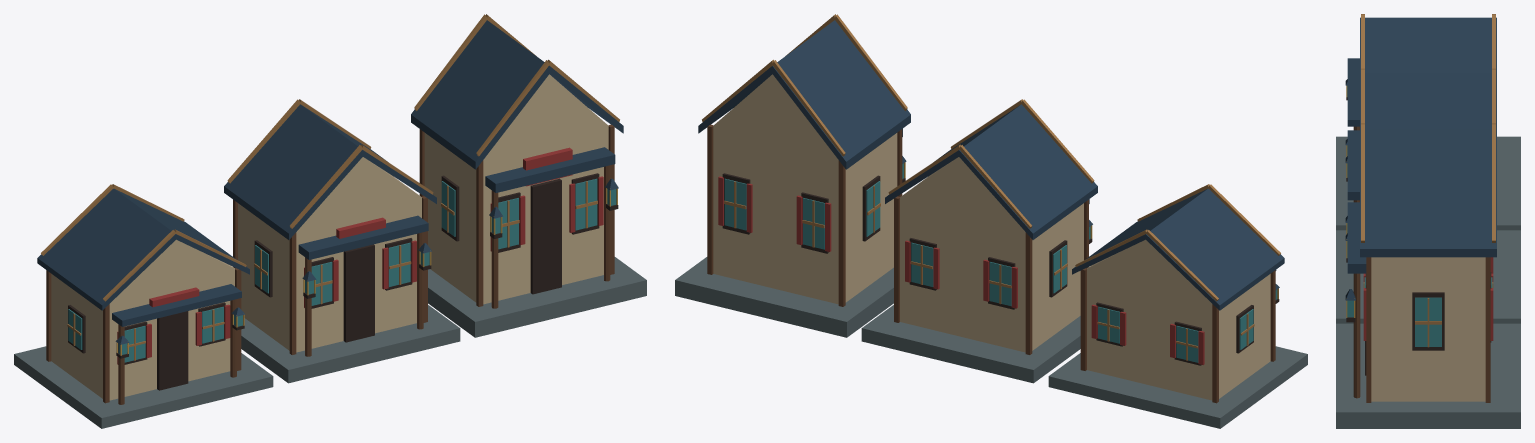
Rendered from PirateCove_BackdropRow_Standard.glb.
The picture shows the model from 3 angles, left to right: view 1: azimuth 30°, elevation 25°; view 2: azimuth 150°, elevation 25°; view 3: azimuth 270°, elevation 25°; orthographic projection. The views are drawn at different scales.
Visible parts, largest first — view 1: PirateCove_BackdropRow_Standard; view 2: PirateCove_BackdropRow_Standard; view 3: PirateCove_BackdropRow_Standard.
Boxes of the visible parts, left/top/right/bottom form: PirateCove_BackdropRow_Standard: left=14, top=14, right=646, bottom=428; PirateCove_BackdropRow_Standard: left=675, top=14, right=1307, bottom=428; PirateCove_BackdropRow_Standard: left=1336, top=14, right=1520, bottom=428.
Size of the model in its own units: 18.98 by 8.22 by 5.28.
